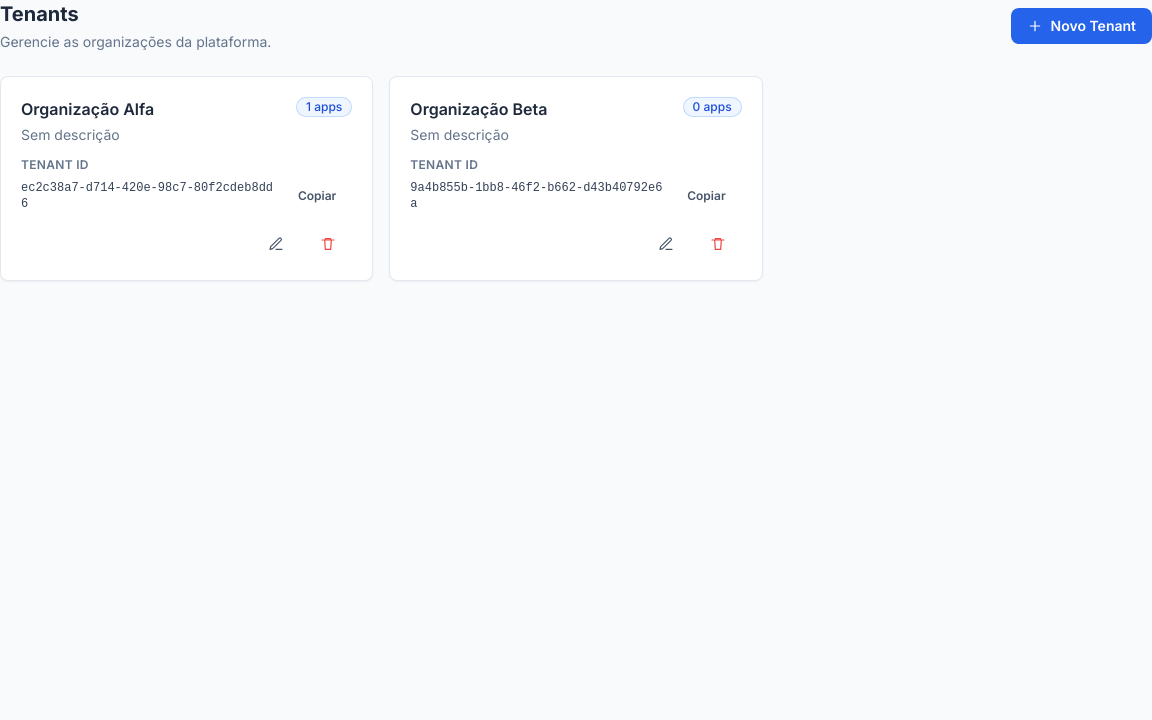
Test case: TenantListPage › creates a tenant through the modal
Expected: the link "Organização Alfa" is shown, top-left (21, 97), bottom-right (154, 121)
Click the button "Novo Tenant": (1081, 26) top-left (1010, 8), bottom-right (1151, 44)
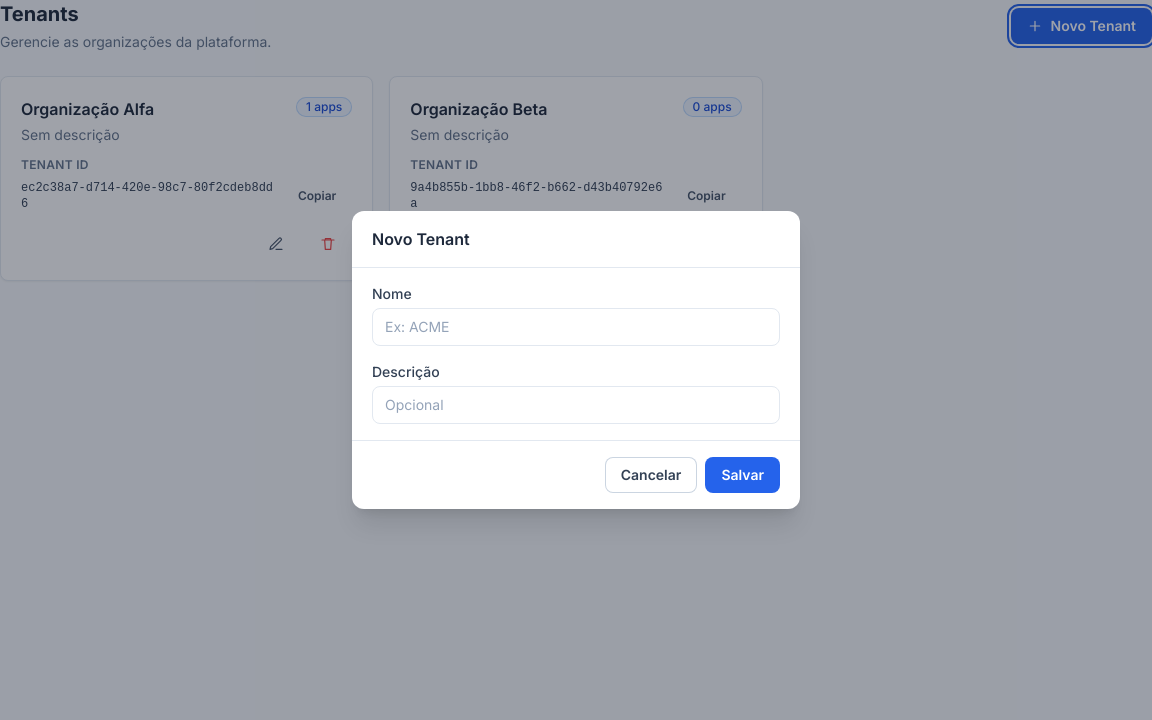
In the field labelled "Nome": (576, 327) top-left (372, 308), bottom-right (780, 346), type "Tenant Gama"
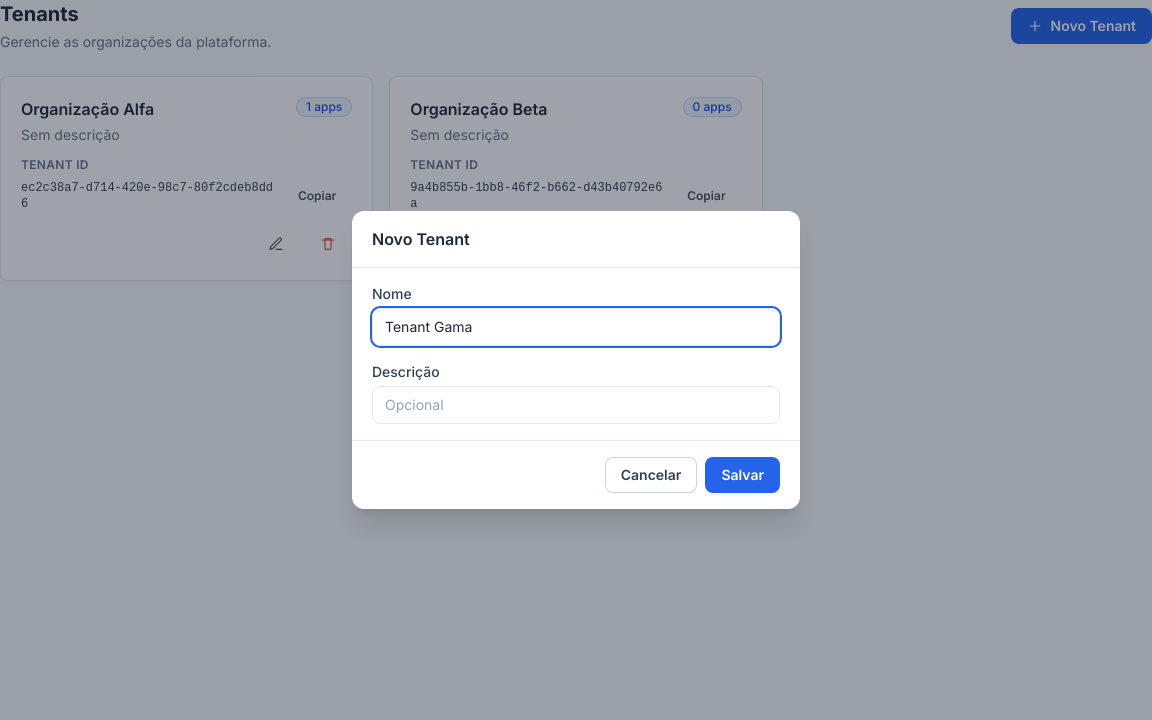
Click the button "Salvar": (743, 475) top-left (705, 457), bottom-right (780, 493)
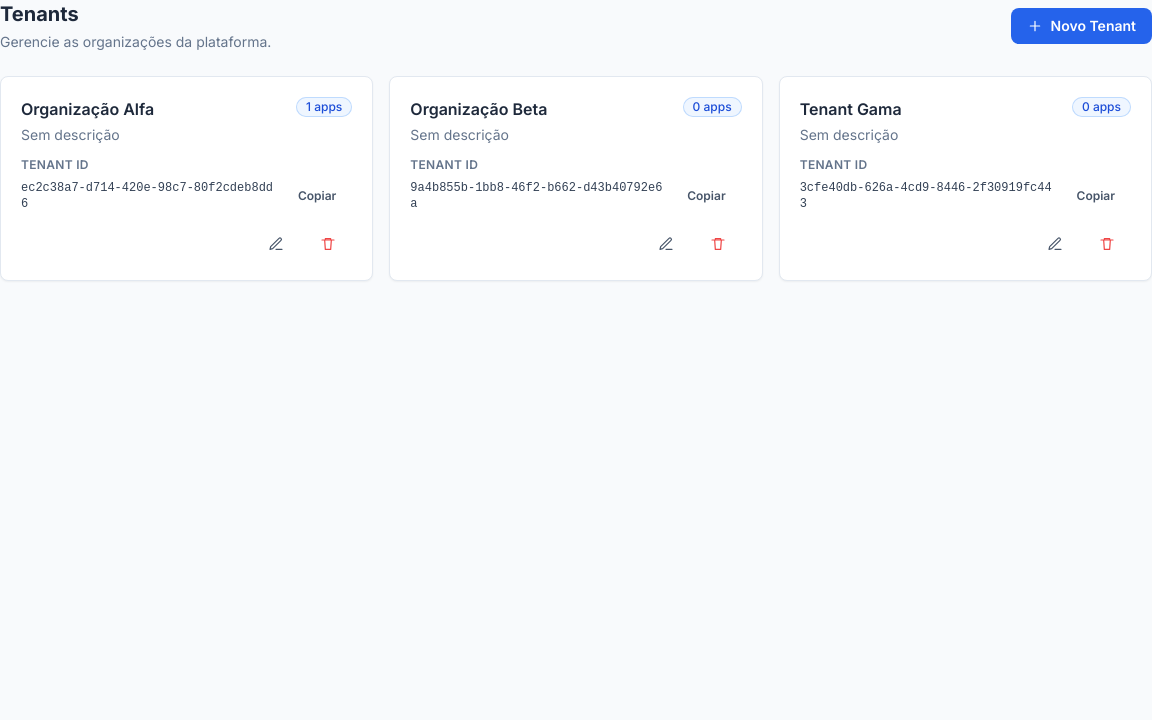
Expected: the link "Tenant Gama" is shown, top-left (800, 97), bottom-right (902, 121)
